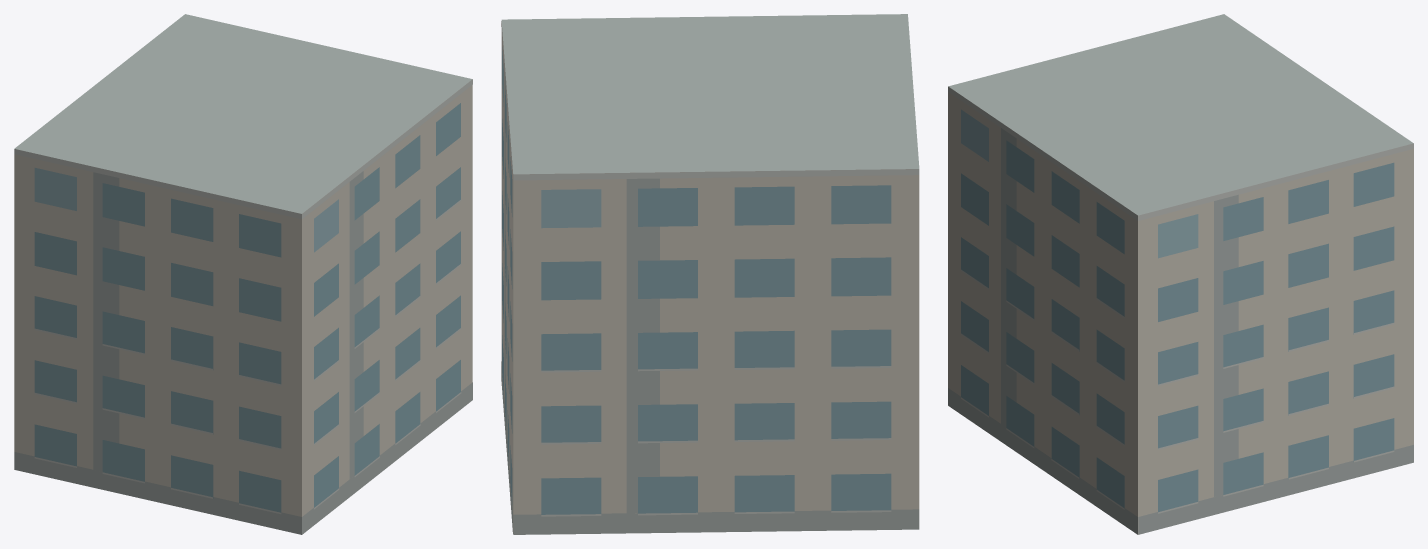
File: residential-0cdf0c63-ac7e-4caf-9436-2bf3d01d116e.glb
The picture shows the model from 3 angles, left to right: view 1: azimuth 30°, elevation 25°; view 2: azimuth 150°, elevation 25°; view 3: azimuth 270°, elevation 25°; orthographic projection. The views are drawn at different scales.
Visible parts, largest first — view 1: residential-0cdf0c63-ac7e-4caf-9436-2bf3d01d116e.tmp; view 2: residential-0cdf0c63-ac7e-4caf-9436-2bf3d01d116e.tmp; view 3: residential-0cdf0c63-ac7e-4caf-9436-2bf3d01d116e.tmp.
Part boxes in pixels (x1,y1,x2,y2): residential-0cdf0c63-ac7e-4caf-9436-2bf3d01d116e.tmp: (14,14,472,534); residential-0cdf0c63-ac7e-4caf-9436-2bf3d01d116e.tmp: (501,14,919,534); residential-0cdf0c63-ac7e-4caf-9436-2bf3d01d116e.tmp: (948,14,1413,534).
Bounding box in the file's own units: 19.44 × 14.35 × 18.98.
